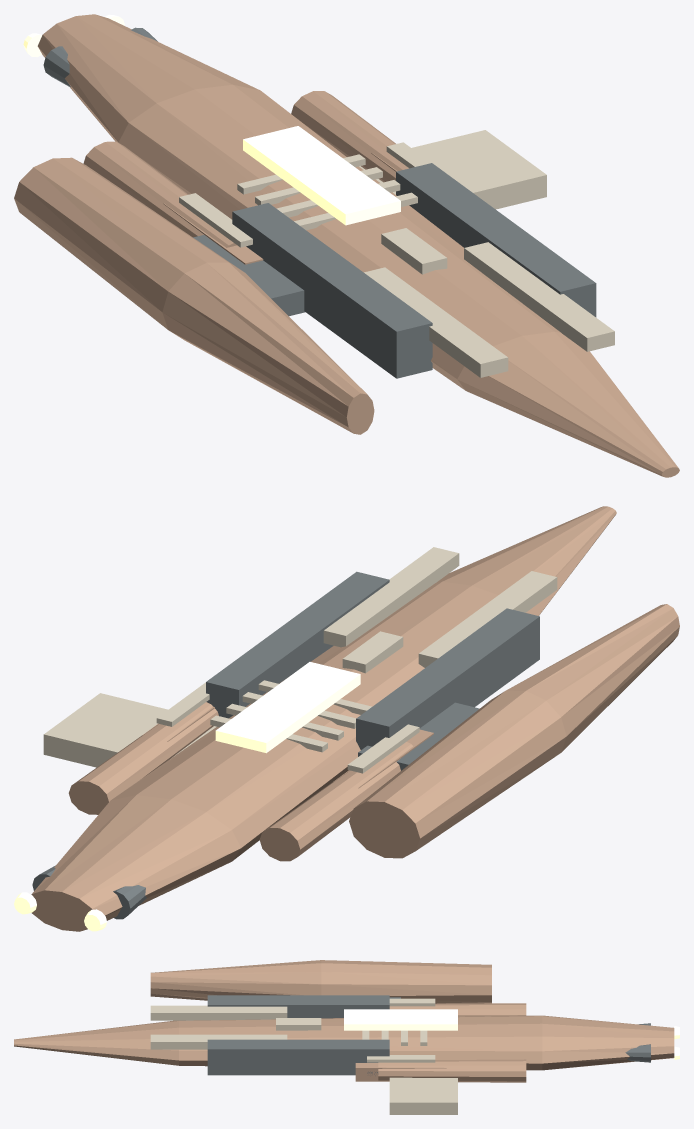
3 views of the same model, one above another, from view 1: azimuth 30°, elevation 25°; view 2: azimuth 150°, elevation 25°; view 3: azimuth 270°, elevation 25° (orthographic). The views are drawn at different scales.
Bounding box in the file's own units: 5.47 × 1.02 × 12.75.
